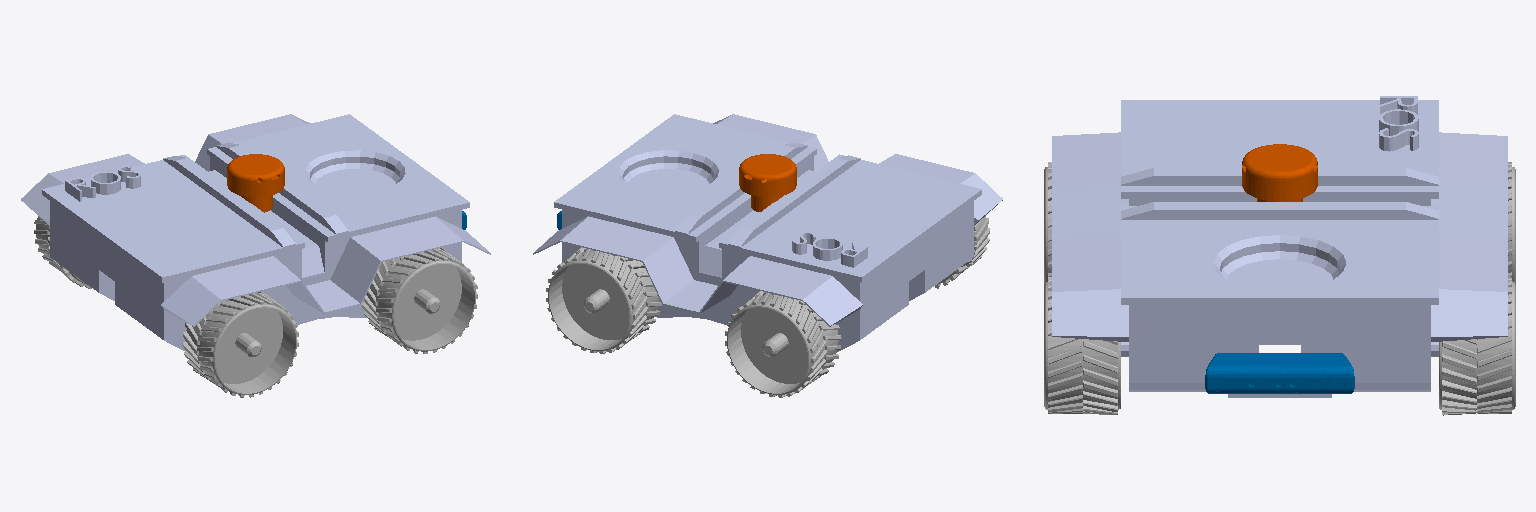
robot.urdf — mobile_manipulation:
<?xml version="1.0" encoding="utf-8"?>

<!-- =================================================================================== -->
<!-- |    @uthor [author] ( ROM Robotics )                                         | -->
<!-- |    ROS Simulation Online Course                                                 | -->
<!-- =================================================================================== -->

<robot
  name="mobile_manipulation"> 
  "



  <gazebo reference="base_link">
	<material>Gazebo/Grey</material>
 </gazebo>

  <!-- <gazebo reference="base_link">
	<material>Gazebo/Grey2</material>
 </gazebo>

 <gazebo reference="link1">
	<material>Gazebo/Grey2</material>
 </gazebo>

 <gazebo reference="link2">
	<material>Gazebo/Grey2</material>
 </gazebo>

 <gazebo reference="arm_link3">
	<material>Gazebo/Grey2</material>
 </gazebo>

 <gazebo reference="arm_link3_two">
	<material>Gazebo/Lighton</material>
 </gazebo> origin_value -0.0081959 0.0004066 0.34679  
			-->
  <link
    name="base_link">
    <inertial>
      <origin
        xyz="-0.0081959 0.0004066 0.34679"   
        rpy="0 0 0" />
      <mass
        value="596.36" />
      <inertia
        ixx="68.349"
        ixy="0.13008"
        ixz="0.90766"
        iyy="118.4"
        iyz="-0.055438"
        izz="168.61" />
    </inertial>
    <visual>
      <origin
        xyz="0 0 0"
        rpy="0 0 0" />
      <geometry>
        <mesh
          filename="package://mh_han_simulation_ws/meshes/mobile_manipulation/base_link.dae" />
      </geometry>
      <material
        name="">
        <color
          rgba="0.79216 0.81961 0.93333 1" />
      </material>
    </visual>
    <collision>
      <origin
        xyz="0 0 0"
        rpy="0 0 0" />
      <geometry>
        <mesh
          filename="package://mh_han_simulation_ws/meshes/mobile_manipulation/base_link.dae" />
      </geometry>
    </collision>
  </link>
  <link
    name="right_back_wheel">
    <inertial>
      <origin
        xyz="2.83320145122445E-10 0.042645349650015 2.79596568120155E-10"
        rpy="0 0 0" />
      <mass
        value="23.6279356986933" />
      <inertia
        ixx="0.31978156556764"
        ixy="4.44263663880047E-10"
        ixz="2.2826242031198E-11"
        iyy="0.510668301436143"
        iyz="2.8849706035778E-11"
        izz="0.319781565373917" />
    </inertial>
    <visual>
      <origin
        xyz="0 0 0"
        rpy="0 0 0" />
      <geometry>
        <mesh
          filename="package://mh_han_simulation_ws/meshes/mobile_manipulation/right_back_wheel.dae" />
      </geometry>
      <material
        name="">
        <color
          rgba="0.752941176470588 0.752941176470588 0.752941176470588 1" />
      </material>
    </visual>
    <collision>
      <origin
        xyz="0 0 0"
        rpy="0 0 0" />
      <geometry>
        <mesh
          filename="package://mh_han_simulation_ws/meshes/mobile_manipulation/right_back_wheel.dae" />
      </geometry>
    </collision>
  </link>
  <joint
    name="right_back_wheel_joint"
    type="continuous">
    <origin
      xyz="-0.45 -0.6524 0.225"
      rpy="0 0 0" />
    <parent
      link="base_link" />
    <child
      link="right_back_wheel" />
    <axis
      xyz="0 1 0" />
    <safety_controller
      k_velocity="0" />
  </joint>
  <link
    name="right_front_wheel">
    <inertial>
      <origin
        xyz="-2.85718781967148E-10 0.0426453496497294 -2.77365685974473E-10"
        rpy="0 0 0" />
      <mass
        value="23.6279356986993" />
      <inertia
        ixx="0.319781565083403"
        ixy="-5.09486662984689E-10"
        ixz="-5.00516936860795E-11"
        iyy="0.510668301123914"
        iyz="1.36637006916901E-10"
        izz="0.3197815651638" />
    </inertial>
    <visual>
      <origin
        xyz="0 0 0"
        rpy="0 0 0" />
      <geometry>
        <mesh
          filename="package://mh_han_simulation_ws/meshes/mobile_manipulation/right_front_wheel.dae" />
      </geometry>
      <material
        name="">
        <color
          rgba="0.752941176470588 0.752941176470588 0.752941176470588 1" />
      </material>
    </visual>
    <collision>
      <origin
        xyz="0 0 0"
        rpy="0 0 0" />
      <geometry>
        <mesh
          filename="package://mh_han_simulation_ws/meshes/mobile_manipulation/right_front_wheel.dae" />
      </geometry>
    </collision>
  </link>
  <joint
    name="right_front_wheel_joint"
    type="continuous">
    <origin
      xyz="0.45 -0.6524 0.225"
      rpy="0 0 0" />
    <parent
      link="base_link" />
    <child
      link="right_front_wheel" />
    <axis
      xyz="0 1 0" />
    <safety_controller
      k_velocity="0" />
  </joint>
  <link
    name="left_back_wheel">
    <inertial>
      <origin
        xyz="2.8297186815962E-10 -0.0426453496500543 -2.79917533596574E-10"
        rpy="0 0 0" />
      <mass
        value="23.6279356986924" />
      <inertia
        ixx="0.319781565567375"
        ixy="-4.4467036824892E-10"
        ixz="-2.32548433355088E-11"
        iyy="0.510668301436044"
        iyz="2.95292272030471E-11"
        izz="0.319781565373617" />
    </inertial>
    <visual>
      <origin
        xyz="0 0 0"
        rpy="0 0 0" />
      <geometry>
        <mesh
          filename="package://mh_han_simulation_ws/meshes/mobile_manipulation/left_back_wheel.dae" />
      </geometry>
      <material
        name="">
        <color
          rgba="0.752941176470588 0.752941176470588 0.752941176470588 1" />
      </material>
    </visual>
    <collision>
      <origin
        xyz="0 0 0"
        rpy="0 0 0" />
      <geometry>
        <mesh
          filename="package://mh_han_simulation_ws/meshes/mobile_manipulation/left_back_wheel.dae" />
      </geometry>
    </collision>
  </link>
  <joint
    name="left_back_wheel_joint"
    type="continuous">
    <origin
      xyz="-0.45 0.6524 0.225"
      rpy="0 0 0" />
    <parent
      link="base_link" />
    <child
      link="left_back_wheel" />
    <axis
      xyz="0 1 0" />
    <safety_controller
      k_velocity="0" />
  </joint>
  <link
    name="left_front_wheel">
    <inertial>
      <origin
        xyz="2.82972090204225E-10 -0.0426453496500552 -2.79916312351247E-10"
        rpy="0 0 0" />
      <mass
        value="23.6279356986924" />
      <inertia
        ixx="0.319781565567375"
        ixy="-4.44670372077509E-10"
        ixz="-2.32548434468936E-11"
        iyy="0.510668301436044"
        iyz="2.95292271793301E-11"
        izz="0.319781565373617" />
    </inertial>
    <visual>
      <origin
        xyz="0 0 0"
        rpy="0 0 0" />
      <geometry>
        <mesh
          filename="package://mh_han_simulation_ws/meshes/mobile_manipulation/left_front_wheel.dae" />
      </geometry>
      <material
        name="">
        <color
          rgba="0.752941176470588 0.752941176470588 0.752941176470588 1" />
      </material>
    </visual>
    <collision>
      <origin
        xyz="0 0 0"
        rpy="0 0 0" />
      <geometry>
        <mesh
          filename="package://mh_han_simulation_ws/meshes/mobile_manipulation/left_front_wheel.dae" />
      </geometry>
    </collision>
  </link>
  <joint
    name="left_front_wheel_joint"
    type="continuous">
    <origin
      xyz="0.45 0.6524 0.225"
      rpy="0 0 0" />
    <parent
      link="base_link" />
    <child
      link="left_front_wheel" />
    <axis
      xyz="0 1 0" />
    <safety_controller
      k_velocity="0" />
  </joint>
<!--   <link
    name="arm_link1">
    <inertial>
      <origin
        xyz="-0.00114610008763694 -0.0104275132972207 0.256822875177275"
        rpy="0 0 0" />
      <mass
        value="0.4288513559643" />
      <inertia
        ixx="0.923258602381502"
        ixy="-0.00177430954572451"
        ixz="0.00689786848135409"
        iyy="0.907258756216452"
        iyz="0.0633353544414437"
        izz="0.147628057729936" />
    </inertial>
    <visual>
      <origin
        xyz="0 0 0"
        rpy="0 0 0" />
      <geometry>
        <mesh
          filename="package://mh_han_simulation_ws/meshes/mobile_manipulation/arm_link1.STL" />
      </geometry>
      <material
        name="">
        <color
          rgba="0.792156862745098 0.819607843137255 0.933333333333333 1" />
      </material>
    </visual>
    <collision>
      <origin
        xyz="0 0 0"
        rpy="0 0 0" />
      <geometry>
        <mesh
          filename="package://mh_han_simulation_ws/meshes/mobile_manipulation/arm_link1.STL" />
      </geometry>
    </collision>
  </link--> 
  <joint
    name="joint1"
    type="revolute">
    <origin
      xyz="0.5 0 0.8"
      rpy="0 0 0" />
    <parent
      link="base_link" />
    <child
      link="link1" />
    <axis
      xyz="0 0 1" />
    <limit effort="500" velocity="100" lower="-3.14" upper="3.14"/>
    
  </joint> 
  <link name="link1">
	<collision>
		<origin xyz="0 0 0" rpy="0 0 0"/>
		<geometry>
			<mesh
          	filename="package://mh_han_simulation_ws/5dof_arm_meshes/5dof_arm_link1.STL" />
		</geometry>
	</collision>

	<visual>
		<origin xyz="0 0 0" rpy="0 0 0"/>
		<geometry>
			<mesh
          	filename="package://mh_han_simulation_ws/5dof_arm_meshes/5dof_arm_link1.STL" />
		</geometry>
	</visual>

	<inertial>
		<origin xyz="0 0 0" rpy="0 0 0"/>
		<mass
        value="0.18241" />
      <inertia
        ixx="0.00026632"
        ixy="0"
        ixz="3.8327E-28"
        iyy="0.00026632"
        iyz="1.4704E-28"
        izz="0.00052959" />
	</inertial>
</link>

<gazebo reference="link1">
	<material>Gazebo/Grey</material>
</gazebo>

<!-- link2 and its revolute joint2 relative to link1 -->
<!-- rotating along y axis -->
<joint name="joint2" type="revolute">
	<parent link="link1"/>
	<child link="link2"/>
	<origin xyz="0.0 0 0.3" rpy="0 0 0"/>
	<axis xyz="0 1 0"/>
	<limit effort="500" velocity="100" lower="-0.1" upper="1.5708"/>
</joint>

<link name="link2">
	<collision>
		<origin xyz="0 0 0" rpy="0 0 1.57"/>
		<geometry>
			<mesh
          	filename="package://mh_han_simulation_ws/5dof_arm_meshes/5dof_arm_link2.STL" />
		</geometry>
	</collision>

	<visual>
		<origin xyz="0 0 0" rpy="0 0 1.57"/>
		<geometry>
			<mesh
          	filename="package://mh_han_simulation_ws/5dof_arm_meshes/5dof_arm_link2.STL" />
		</geometry>
	</visual>

	<inertial>
		<origin xyz="0 0 0.5" rpy="0 0 0"/>
		<mass
        value="0.18241" />
      <inertia
        ixx="0.00026632"
        ixy="0"
        ixz="3.8327E-28"
        iyy="0.00026632"
        iyz="1.4704E-28"
        izz="0.00052959" />
	</inertial>
</link>

<gazebo reference="link2">
	<material>Gazebo/Grey</material>
</gazebo>

<!-- link3 and its revolute joint3 relative to link2 -->
<!-- rotating along y axis -->
<joint name="joint3" type="revolute">
	<parent link="link2"/>
	<child link="link3"/>
	<origin xyz="0 0 1" rpy="0 0 0"/>
	<axis xyz="0 1 0"/>
	<limit effort="500" velocity="100" lower="-0.1" upper="3.1416"/>
</joint>

<link name="link3">
	<collision>
		<origin xyz="0 0 0" rpy="0 0 1.57"/>
		<geometry>
			<mesh
          	filename="package://mh_han_simulation_ws/5dof_arm_meshes/5dof_arm_link3.STL" />
		</geometry>
	</collision>

	<visual>
		<origin xyz="0 0 0" rpy="0 0 1.57"/>
		<geometry>
			<mesh
          	filename="package://mh_han_simulation_ws/5dof_arm_meshes/5dof_arm_link3.STL" />
		</geometry>
	</visual>

	<inertial>
		<origin xyz="0 0 0.5" rpy="0 0 0"/>
		<mass
        value="0.18241" />
      <inertia
        ixx="0.00026632"
        ixy="0"
        ixz="3.8327E-28"
        iyy="0.00026632"
        iyz="1.4704E-28"
        izz="0.00052959" />
	</inertial>
</link>


<link name="link3_to_4">
	<collision>
		<origin xyz="0 0 0.64" rpy="0 0 1.57"/>
		<geometry>
			<mesh
          	filename="package://mh_han_simulation_ws/5dof_arm_meshes/5dof_arm_link4.STL" />
		</geometry>
	</collision>

	<visual>
		<origin xyz="0 0 0.64" rpy="0 0 1.57"/>
		<geometry>
			<mesh
          	filename="package://mh_han_simulation_ws/5dof_arm_meshes/5dof_arm_link4.STL" />
		</geometry>
	</visual>

	<inertial>
		<origin xyz="0 0 0.5" rpy="0 0 0"/>
		<mass
        value="0.18241" />
      <inertia
        ixx="0.00026632"
        ixy="0"
        ixz="3.8327E-28"
        iyy="0.00026632"
        iyz="1.4704E-28"
        izz="0.00052959" />
	</inertial>
</link>

<joint name="joint3_two" type="fixed">
	<parent link="link3"/>
	<child link="link3_to_4"/>
	<origin xyz="0 0 -0.65" rpy="0 0 0"/>
	<axis xyz="0 0 0"/>
	<limit effort="500" velocity="100" lower="-0.1" upper="3.1416"/>
</joint>


<gazebo reference="link3">
	<material>Gazebo/Grey</material>
</gazebo>

<!-- link4 and its revolute joint4 relative to link3 -->
<!-- rotating along y axis -->
<joint name="joint4" type="revolute">
	<parent link="link3_to_4"/>
	<child link="link4"/>
	<origin xyz="0 0 1.65" rpy="0 0 0"/>
	<axis xyz="0 1 0"/>
	<limit effort="1000" velocity="100" lower="-1.5708" upper="1.5708"/>
</joint>

<link name="link4">
	<collision>
		<origin xyz="0 0 0" rpy="0 -1.57 0"/>
		<geometry>
			<mesh
          	filename="package://mh_han_simulation_ws/5dof_arm_meshes/5dof_arm_link5.STL" />
		</geometry>
	</collision>

	<visual>
		<origin xyz="0 0 0" rpy="0 -1.57 0"/>
		<geometry>
			<mesh
          	filename="package://mh_han_simulation_ws/5dof_arm_meshes/5dof_arm_link5.STL" />
		</geometry>
	</visual>

	<inertial>
		<origin xyz="0 0 0" rpy="1.5708 0 0"/>
		<mass value="0.4"/>
		<inertia
			ixx="0.05" ixy="0.0" ixz="0.0"
			iyy="0.002" iyz="0.0"
			izz="0.05"/>
	</inertial>
</link>

<gazebo reference="link4">
	<material>Gazebo/Red</material>
</gazebo>

<!-- link5 and its prismatic joint5 relative to link4 -->
<!-- translating along y axis -->
<joint name="joint5" type="prismatic">
	<parent link="link4"/>
	<child link="link5"/>
	<origin xyz="0 0.16 0" rpy="0 0 0"/>
	<axis xyz="0 1 0"/>
	<limit effort="1000" velocity="100" lower="-0.16" upper="0.0"/>
</joint>

<link name="link5">
	<collision>
		<origin xyz="0.01 0 0" rpy="-1.57 -1.57 0"/>
		<geometry>
			<mesh
          	filename="package://mh_han_simulation_ws/5dof_arm_meshes/5dof_arm_gripper.STL" />
		</geometry>
	</collision>

	<visual>
		<origin xyz="0.01 0 0" rpy="-1.57 -1.57 0"/>
		<geometry>
			<mesh
          	filename="package://mh_han_simulation_ws/5dof_arm_meshes/5dof_arm_gripper.STL" />
		</geometry>
	</visual>

	<inertial>
		<origin xyz="0 0 0.15" rpy="0 0 0"/>
		<mass value="0.2"/>
		<inertia
			ixx="0.02" ixy="0.0" ixz="0.0"
			iyy="0.02" iyz="0.0"
			izz="0.001"/>
	</inertial>
</link>

<gazebo reference="link5">
	<material>Gazebo/Red</material>
</gazebo>

<!-- link6 and its prismatic joint6 relative to link4 -->
<!-- translating along y axis -->
<joint name="joint6" type="prismatic">
	<parent link="link4"/>
	<child link="link6"/>
	<origin xyz="0 -0.16 0" rpy="0 0 0"/>
	<axis xyz="0 1 0"/>
	<limit effort="1000" velocity="100" lower="0.0" upper="0.16"/>
</joint>

<link name="link6">
	<collision>
		<origin xyz="0 0 0" rpy="0 -1.57 1.57"/>
		<geometry>
			<mesh
          	filename="package://mh_han_simulation_ws/5dof_arm_meshes/5dof_arm_gripper.STL" />
		</geometry>
	</collision>

	<visual>
		<origin xyz="0 0 0" rpy="0 -1.57 1.57"/>
		<geometry>
			<mesh
          	filename="package://mh_han_simulation_ws/5dof_arm_meshes/5dof_arm_gripper.STL" />
		</geometry>
	</visual>

	<inertial>
		<origin xyz="0 0 0.15" rpy="0 0 0"/>
		<mass value="0.2"/>
		<inertia
			ixx="0.02" ixy="0.0" ixz="0.0"
			iyy="0.02" iyz="0.0"
			izz="0.001"/>
	</inertial>
</link>

<gazebo reference="link6">
	<material>Gazebo/Red</material>
</gazebo>


 
  <link name="kinect_link">
	<collision>
		<origin xyz="0.85 0 0.26" rpy="0 0 1.57"/>
		<geometry>
			<mesh
          	filename="package://mh_han_simulation_ws/meshes/mobile_manipulation/mobile_manipulation_kinect.STL" />
		</geometry>
	</collision>

	<visual>
		<origin xyz="0.85 0 0.26" rpy="0 0 1.57"/>
		<geometry>
			<mesh
          	filename="package://mh_han_simulation_ws/meshes/mobile_manipulation/mobile_manipulation_kinect.STL" />
		</geometry>
	</visual>

	<inertial>
		<origin xyz="0 0 0" rpy="0 0 0"/>
		<mass
        value="0.18241" />
      <inertia
        ixx="0.00026632"
        ixy="0"
        ixz="3.8327E-28"
        iyy="0.00026632"
        iyz="1.4704E-28"
        izz="0.00052959" />
	</inertial>
</link>

<joint name="kinect_joint" type="fixed">
	<parent link="base_link"/>
	<child link="kinect_link"/>
	<origin xyz="0 0 0" rpy="0 0 0"/>
	<axis xyz="0 0 0"/>
	
</joint>

<link name="lidar_link">
	<collision>
		<origin xyz="0 0 0.6" rpy="0 0 0"/>
		<geometry>
			<mesh
          	filename="package://mh_han_simulation_ws/meshes/mobile_manipulation/mobile_manipulation_lidar.STL" />
		</geometry>
	</collision>

	<visual>
		<origin xyz="0 0 0.6" rpy="0 0 0"/>
		<geometry>
			<mesh
          	filename="package://mh_han_simulation_ws/meshes/mobile_manipulation/mobile_manipulation_lidar.STL" />
		</geometry>
	</visual>

	<inertial>
		<origin xyz="0 0 0" rpy="0 0 0"/>
		<mass
        value="0.18241" />
      <inertia
        ixx="0.00026632"
        ixy="0"
        ixz="3.8327E-28"
        iyy="0.00026632"
        iyz="1.4704E-28"
        izz="0.00052959" />
	</inertial>
</link>

<joint name="lidar_joint" type="continuous">
	<parent link="base_link"/>
	<child link="lidar_link"/>
	<origin xyz="0 0 0" rpy="0 0 0"/>
	<axis xyz="0 0 1"/>
	<limit effort="1000" velocity="100"/>
	
</joint>

<gazebo reference="lidar_link">   
    <material>Gazebo/Blue</material>
    <turnGravityOff>false</turnGravityOff>
    <sensor name="chassis_hokuyo_sensor" type="ray">
      <pose>0.025 0 0.6 0 0 0</pose>
      <visualize>false</visualize>
      <update_rate>40</update_rate>
      <ray>
        <scan>
          <horizontal>
            <samples>720</samples>
            <resolution>1</resolution>
            <min_angle>-3.57</min_angle>
            <max_angle>3.57</max_angle>
          </horizontal>
        </scan>
        <range>
          <min>0.50</min>
          <max>10.0</max>
          <resolution>1.0</resolution>
        </range>
      </ray>
      <plugin filename="libgazebo_ros_laser.so" name="gazebo_ros_head_hokuyo_controller">
        <topicName>/scan</topicName>
        <frameName>lidar_link</frameName>
      </plugin>
    </sensor>
  </gazebo>


    <transmission name="tran1">
    <type>transmission_interface/SimpleTransmission</type>
    <joint name="joint1">
      <hardwareInterface>hardware_interface/EffortJointInterface</hardwareInterface>
    </joint>
    <actuator name="motor1">
      <hardwareInterface>hardware_interface/EffortJointInterface</hardwareInterface>
      <mechanicalReduction>1</mechanicalReduction>
    </actuator>
  </transmission>
  <transmission name="tran2">
    <type>transmission_interface/SimpleTransmission</type>
    <joint name="joint2">
      <hardwareInterface>hardware_interface/EffortJointInterface</hardwareInterface>
    </joint>
    <actuator name="motor2">
      <hardwareInterface>hardware_interface/EffortJointInterface</hardwareInterface>
      <mechanicalReduction>1</mechanicalReduction>
    </actuator>
  </transmission>
  <transmission name="tran3">
    <type>transmission_interface/SimpleTransmission</type>
    <joint name="joint3">
      <hardwareInterface>hardware_interface/EffortJointInterface</hardwareInterface>
    </joint>
    <actuator name="motor3">
      <hardwareInterface>hardware_interface/EffortJointInterface</hardwareInterface>
      <mechanicalReduction>1</mechanicalReduction>
    </actuator>
  </transmission>
  <transmission name="tran4">
    <type>transmission_interface/SimpleTransmission</type>
    <joint name="joint4">
      <hardwareInterface>hardware_interface/EffortJointInterface</hardwareInterface>
    </joint>
    <actuator name="motor4">
      <hardwareInterface>hardware_interface/EffortJointInterface</hardwareInterface>
      <mechanicalReduction>1</mechanicalReduction>
    </actuator>
  </transmission>
  <transmission name="tran5">
    <type>transmission_interface/SimpleTransmission</type>
    <joint name="joint5">
      <hardwareInterface>hardware_interface/EffortJointInterface</hardwareInterface>
    </joint>
    <actuator name="motor5">
      <hardwareInterface>hardware_interface/EffortJointInterface</hardwareInterface>
      <mechanicalReduction>1</mechanicalReduction>
    </actuator>
  </transmission>
  <transmission name="tran6">
    <type>transmission_interface/SimpleTransmission</type>
    <joint name="joint6">
      <hardwareInterface>hardware_interface/EffortJointInterface</hardwareInterface>
    </joint>
    <actuator name="motor6">
      <hardwareInterface>hardware_interface/EffortJointInterface</hardwareInterface>
      <mechanicalReduction>1</mechanicalReduction>
    </actuator>
  </transmission>

  <transmission name="tran7">
    <type>transmission_interface/SimpleTransmission</type>
    <joint name="lidar_joint">
      <hardwareInterface>hardware_interface/EffortJointInterface</hardwareInterface>
    </joint>
    <actuator name="motor7">
      <hardwareInterface>hardware_interface/EffortJointInterface</hardwareInterface>
      <mechanicalReduction>1</mechanicalReduction>
    </actuator>
  </transmission>

   <gazebo>
    <plugin filename="libgazebo_ros_control.so" name="gazebo_ros_control">   	
      
    </plugin>
  </gazebo>

   <gazebo>
  <plugin name="skid_steer_drive_controller" filename="libgazebo_ros_skid_steer_drive.so">
    <updateRate>100.0</updateRate>
    <robotNamespace>/</robotNamespace>
    <leftFrontJoint>left_front_wheel_joint</leftFrontJoint>
    <rightFrontJoint>right_front_wheel_joint</rightFrontJoint>
    <leftRearJoint>left_back_wheel_joint</leftRearJoint>
    <rightRearJoint>right_back_wheel_joint</rightRearJoint>
    <wheelSeparation>1.3</wheelSeparation>
    <wheelDiameter>0.45</wheelDiameter>
    <robotBaseFrame>base_link</robotBaseFrame>
    <torque>500</torque>
    <topicName>cmd_vel</topicName>
    <broadcastTF>true</broadcastTF>
  </plugin>
</gazebo>

</robot>

--- Render facts (derived) ---
The picture shows the robot from 3 angles, left to right: view 1: azimuth 30°, elevation 25°; view 2: azimuth 150°, elevation 25°; view 3: azimuth 270°, elevation 25°; orthographic projection.
Robot: mobile_manipulation — 14 links, 13 joints (4 revolute, 5 continuous, 2 prismatic, 2 fixed); root link base_link; default pose: every joint at zero.
Links seen in each view (by area): view 1: base_link, right_front_wheel, right_back_wheel, lidar_link, left_back_wheel; view 2: base_link, left_front_wheel, left_back_wheel, lidar_link, right_back_wheel; view 3: base_link, left_front_wheel, right_front_wheel, kinect_link, lidar_link, right_back_wheel, left_back_wheel.
Boxes of the visible links, x1,y1,x2,y2 form: base_link: (21, 114, 490, 350); right_front_wheel: (362, 247, 477, 353); right_back_wheel: (182, 291, 298, 397); lidar_link: (227, 154, 284, 212); left_back_wheel: (34, 216, 91, 288); base_link: (533, 114, 1002, 351); left_front_wheel: (546, 247, 661, 353); left_back_wheel: (725, 291, 841, 397); lidar_link: (739, 154, 796, 211); right_back_wheel: (935, 216, 989, 288); base_link: (1052, 96, 1507, 397); left_front_wheel: (1439, 277, 1515, 415); right_front_wheel: (1044, 277, 1120, 414); kinect_link: (1205, 353, 1354, 393); lidar_link: (1242, 144, 1317, 201); right_back_wheel: (1044, 162, 1051, 283); left_back_wheel: (1508, 162, 1515, 283).
Bounding box of the posed robot: 1.7 × 1.56 × 0.7074 m (x, y, z).
Meshes: 13 distinct files referenced, 7 mesh visuals loaded (2 binary STL, 5 Collada DAE); not drawn: 7 (reference not matched to a file when rendering).
